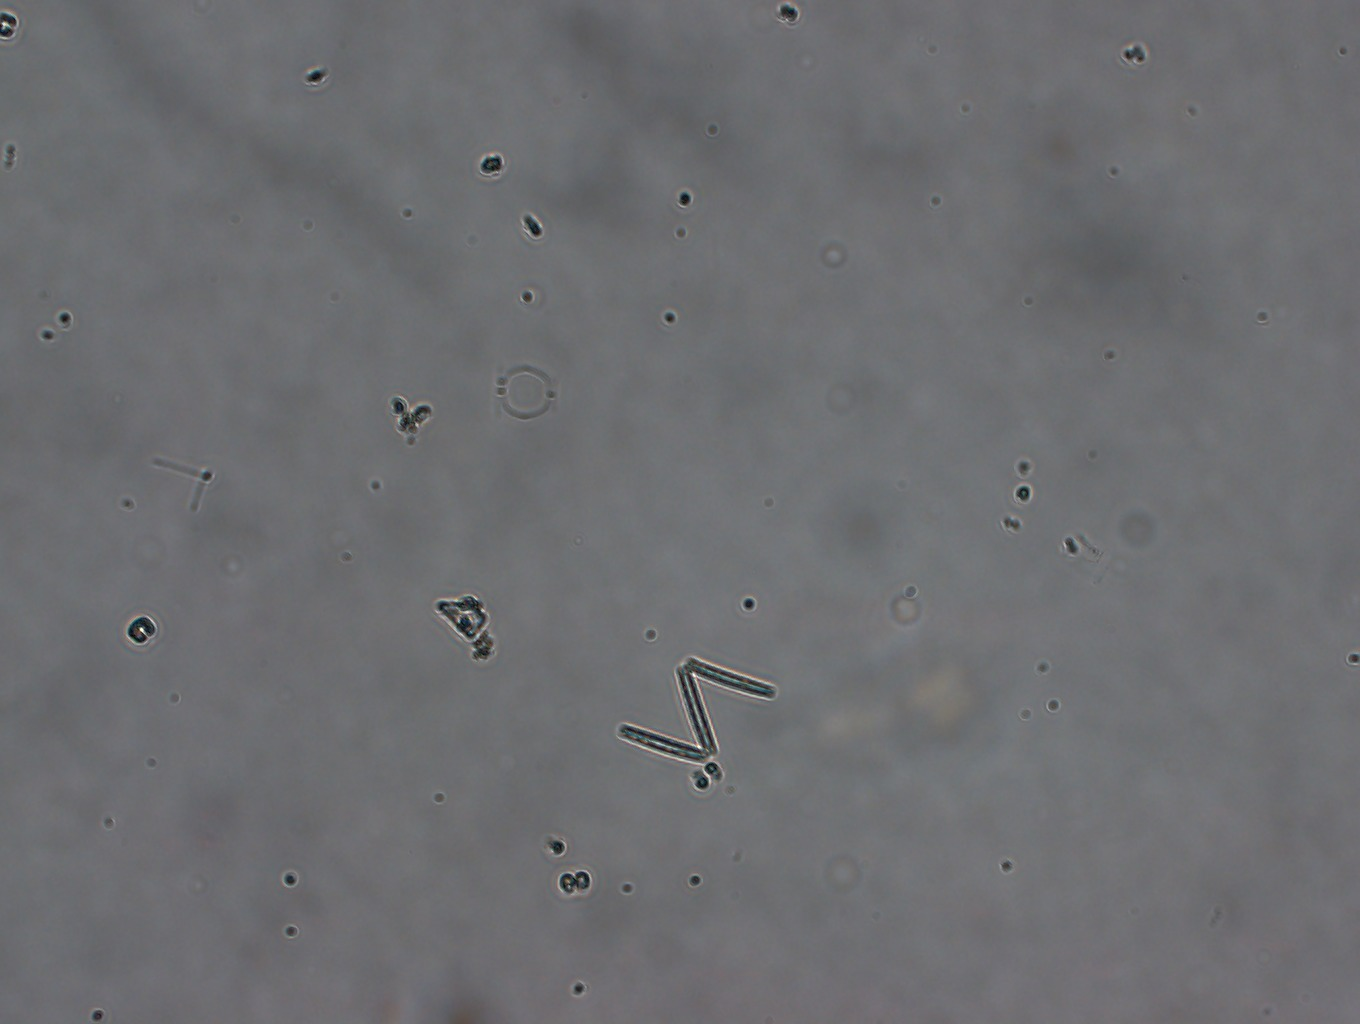thalassionema nitzschioides: (613, 651, 781, 760)
